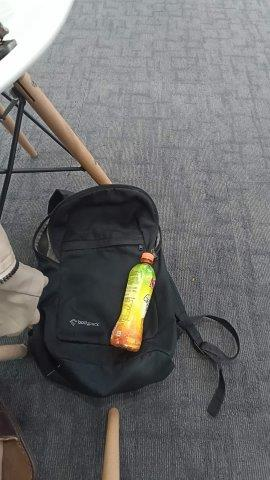botolplastik: (111, 253, 157, 351)
